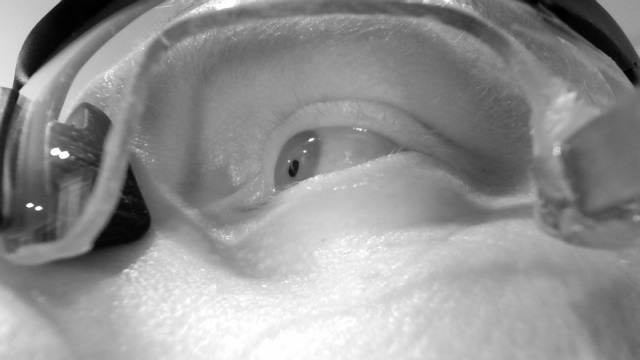pupil: (287, 159, 300, 179)
